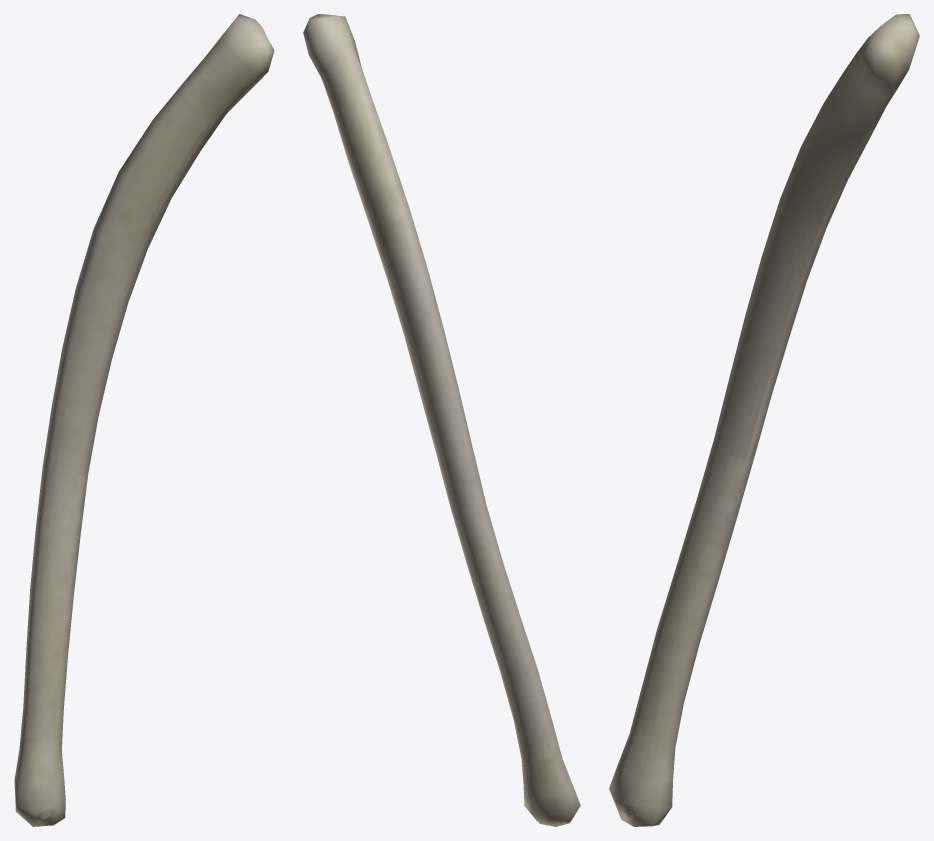
The model's file is Rib R04.fbx.
The picture shows the model from 3 angles, left to right: view 1: azimuth 30°, elevation 25°; view 2: azimuth 150°, elevation 25°; view 3: azimuth 330°, elevation 25°; orthographic projection. The views are drawn at different scales.
Parts seen in each view (by area): view 1: Rib R04 low, Rib R04; view 2: Rib R04 low, Rib R04; view 3: Rib R04 low, Rib R04.
Boxes of the visible parts, left/top/right/bottom form: Rib R04 low: left=14, top=14, right=274, bottom=826; Rib R04: left=19, top=22, right=251, bottom=820; Rib R04 low: left=303, top=14, right=580, bottom=826; Rib R04: left=321, top=16, right=564, bottom=823; Rib R04 low: left=609, top=14, right=919, bottom=826; Rib R04: left=623, top=23, right=906, bottom=817.
Size of the model in its own units: 2.12 by 5.87 by 0.7479.
1 material, 1 textured.
